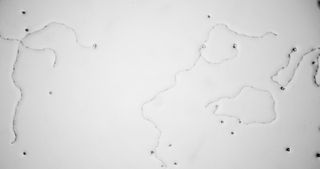germinated: (288, 45, 297, 53), (231, 43, 238, 51), (198, 43, 206, 50), (87, 43, 96, 49), (212, 104, 219, 111)
nongerminated: (23, 26, 30, 34), (284, 145, 291, 153), (229, 130, 235, 137), (206, 13, 212, 20), (20, 9, 26, 15), (280, 85, 286, 91), (310, 59, 316, 65), (219, 118, 225, 124), (172, 161, 178, 167), (149, 149, 155, 155), (47, 89, 53, 95), (21, 150, 27, 156), (315, 151, 320, 158)
